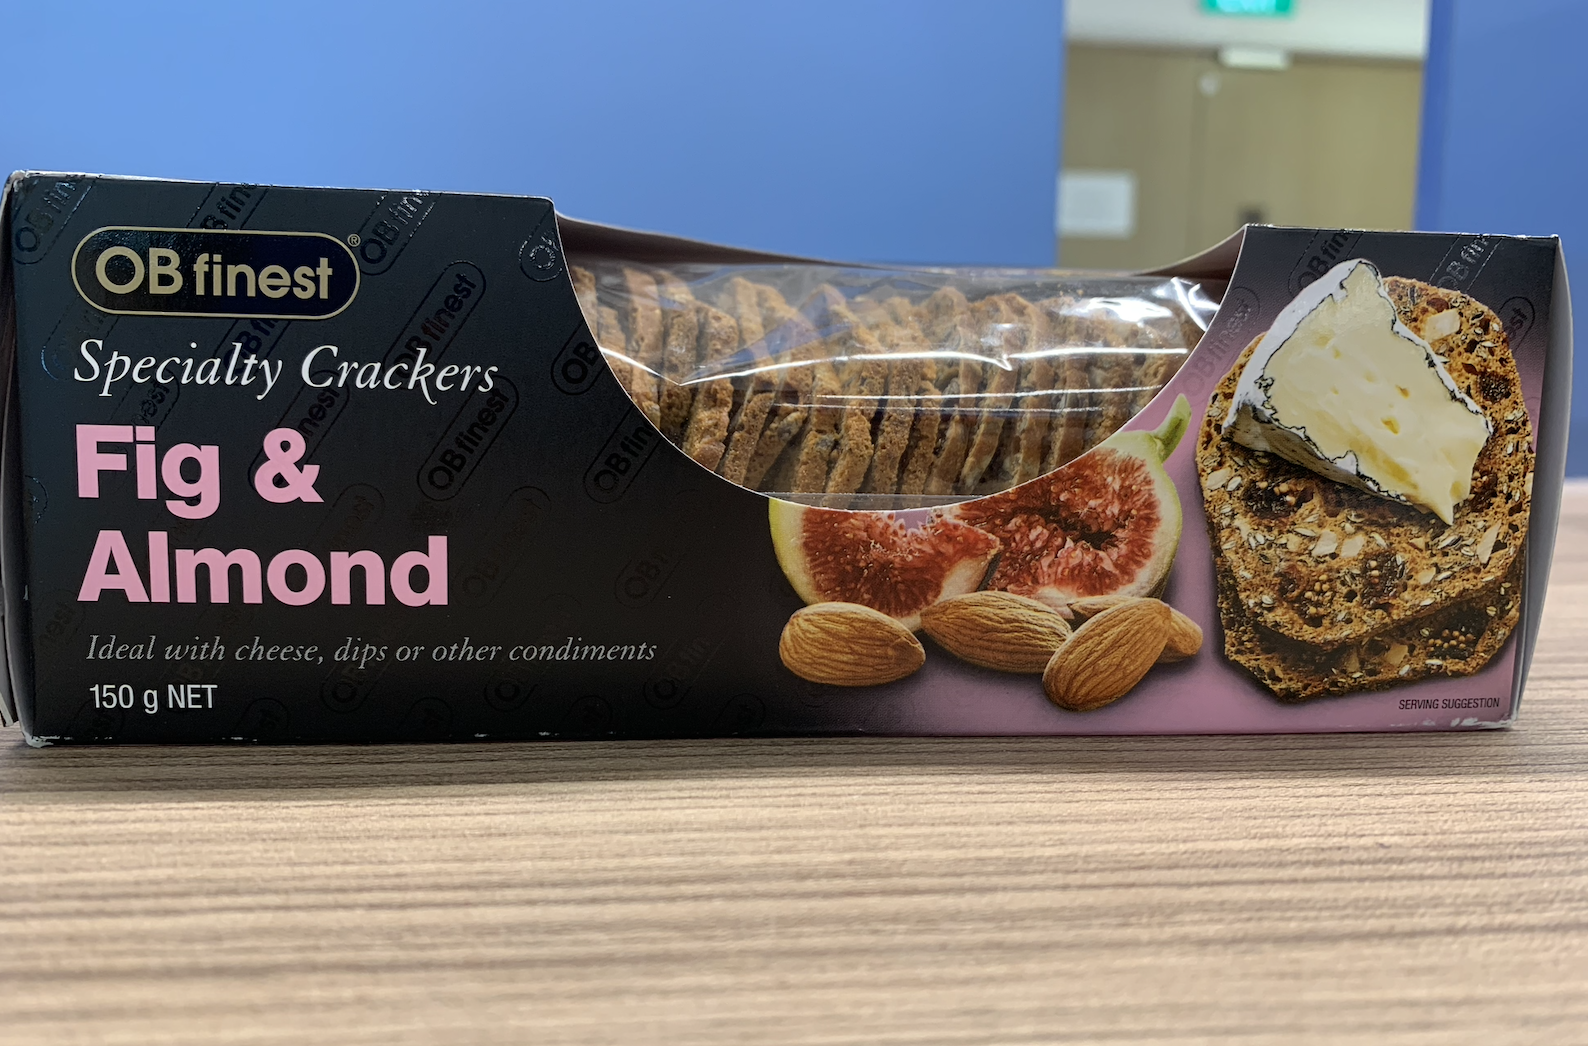crackers_150g: (53, 233, 1493, 726)
